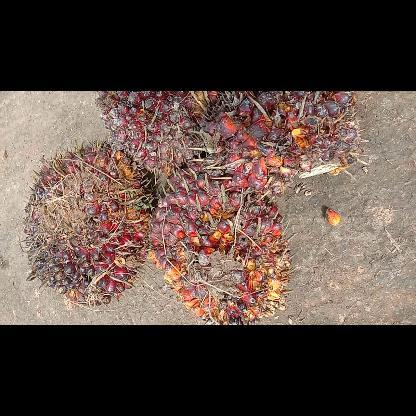Kurang masak: (20, 138, 162, 310), (92, 91, 206, 177)
TBS masak: (150, 162, 298, 324), (186, 90, 366, 200)
